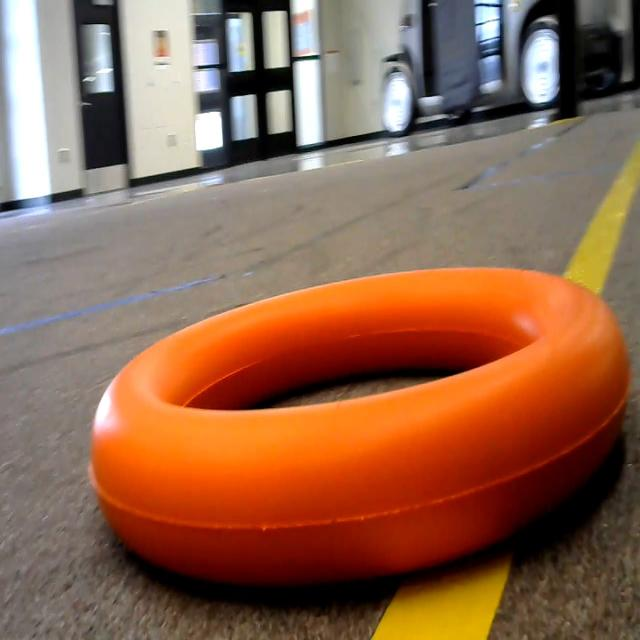note: (83, 286, 637, 556)
